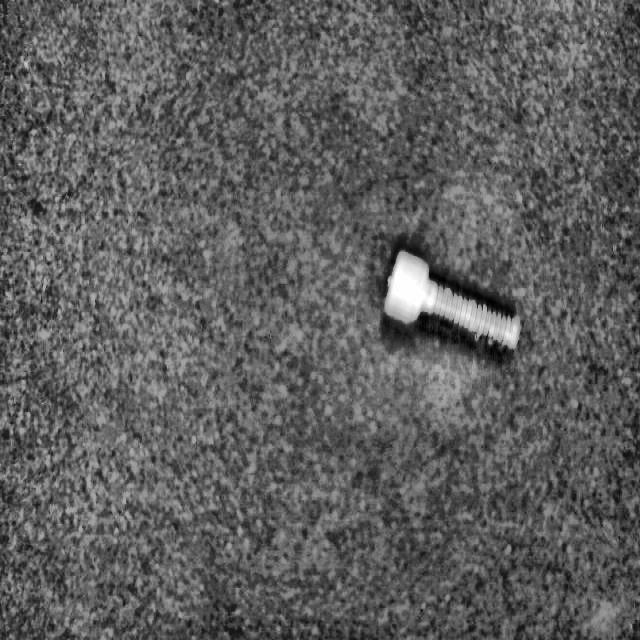Socket head cap screw: (380, 244, 522, 357)
